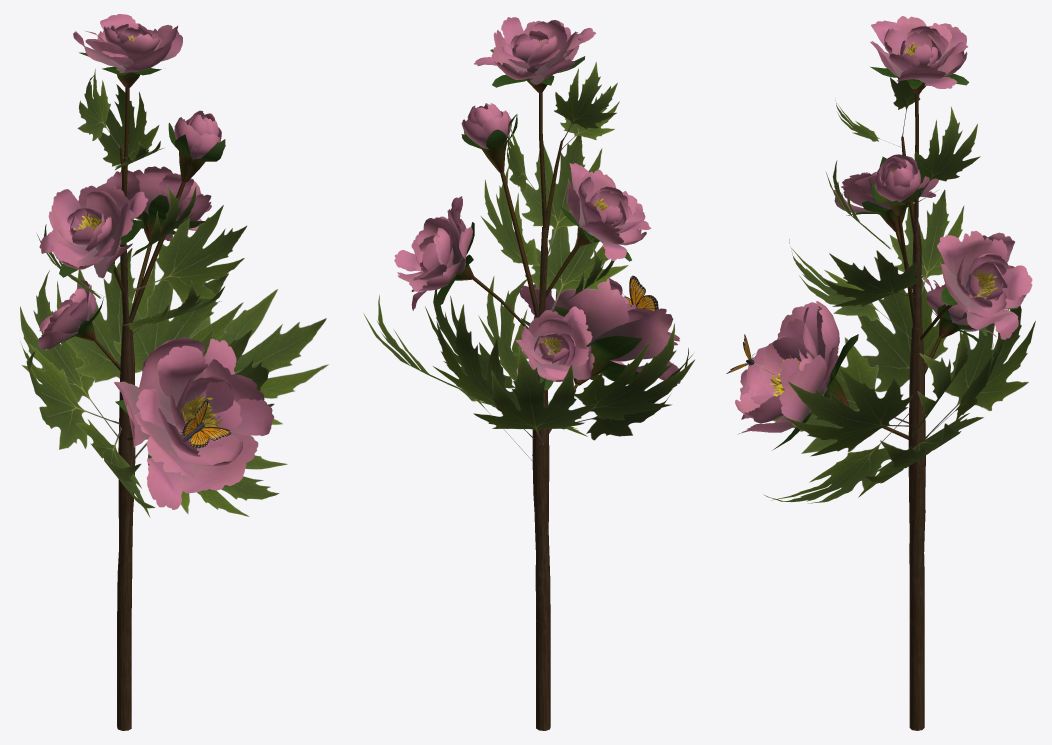
The model's file is moranhwapeony.glb.
3 renders of one model, left to right at view 1: azimuth 30°, elevation 25°; view 2: azimuth 150°, elevation 25°; view 3: azimuth 270°, elevation 25°, orthographic.
Parts seen in each view (by area): view 1: Moranhwa, Junhwa_Animal; view 2: Moranhwa, Junhwa_Animal; view 3: Moranhwa.
Boxes of the visible parts, x1,y1,x2,y2 form: Moranhwa: (20, 14, 328, 730); Junhwa_Animal: (178, 399, 231, 448); Moranhwa: (363, 17, 695, 730); Junhwa_Animal: (623, 275, 658, 311); Moranhwa: (735, 16, 1035, 730).
Size of the model in its own units: 0.3634 by 0.8063 by 0.3248.
2 materials, 2 textured.
